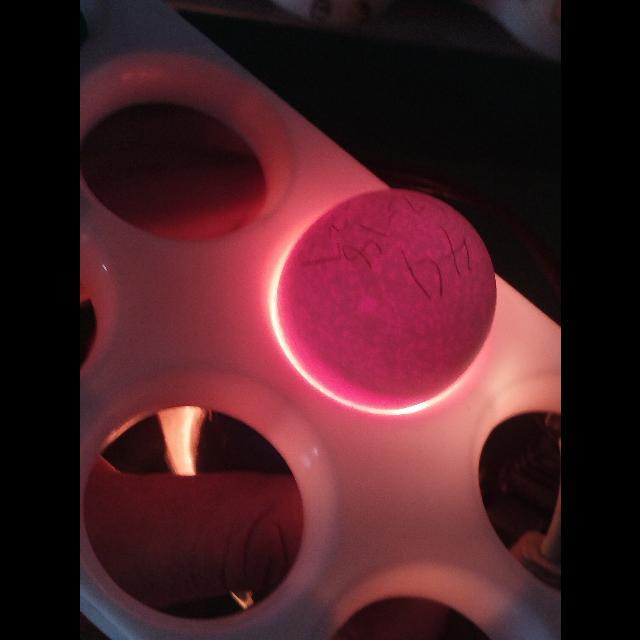Infertile: (272, 187, 500, 416)
